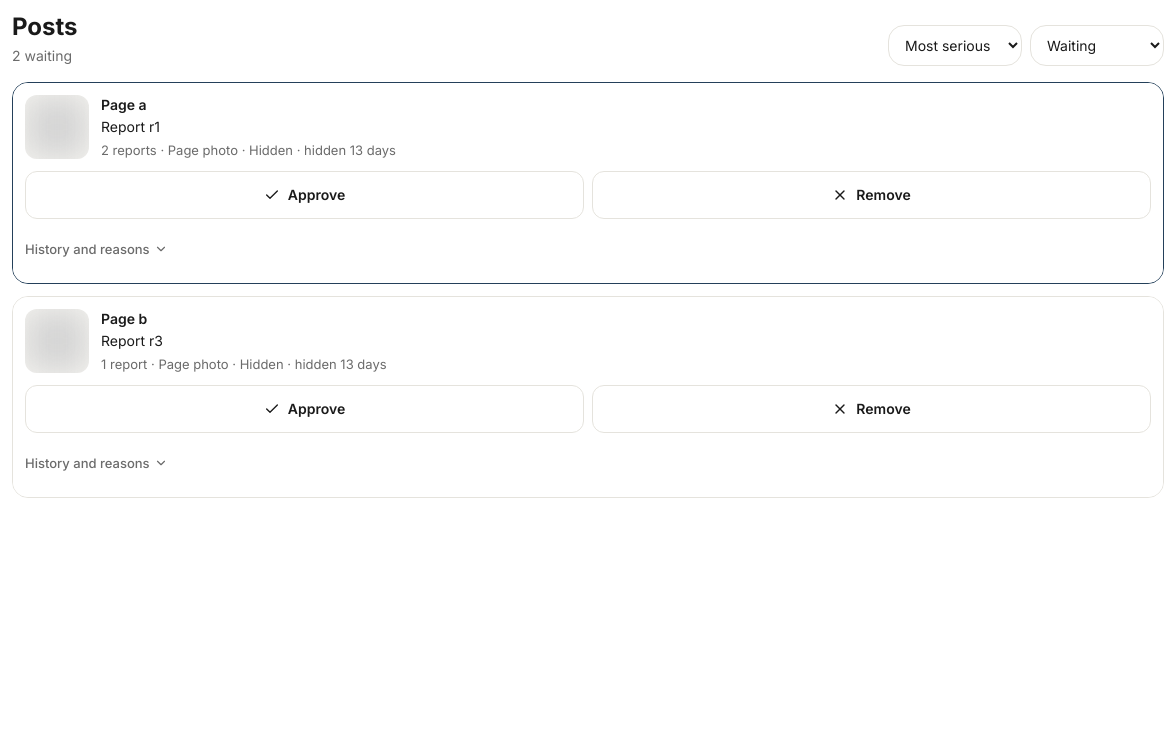
Test: F101 — one tap, then a five-second Undo › Undo brings the row back and writes nothing
Click the button with test id "review-remove".
click(872, 195)  # box [592, 171, 1151, 219]
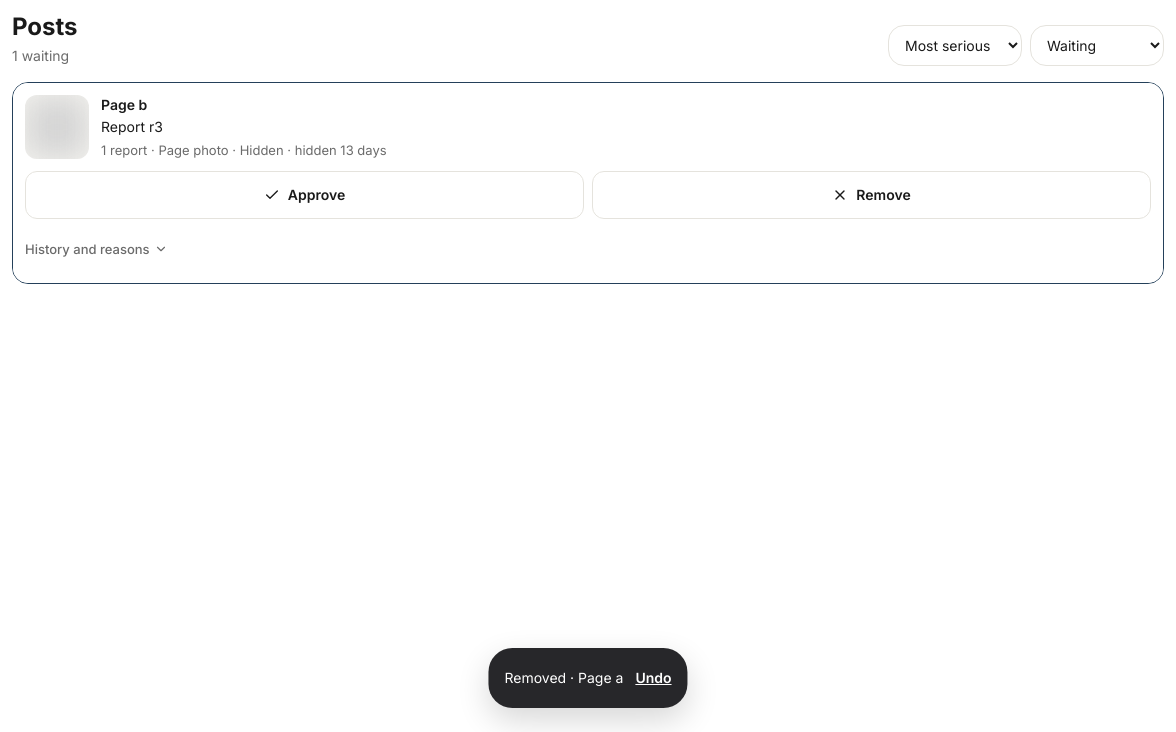
Click the button "Undo".
click(653, 678)  # box [635, 656, 672, 700]
Wait 6000 ms
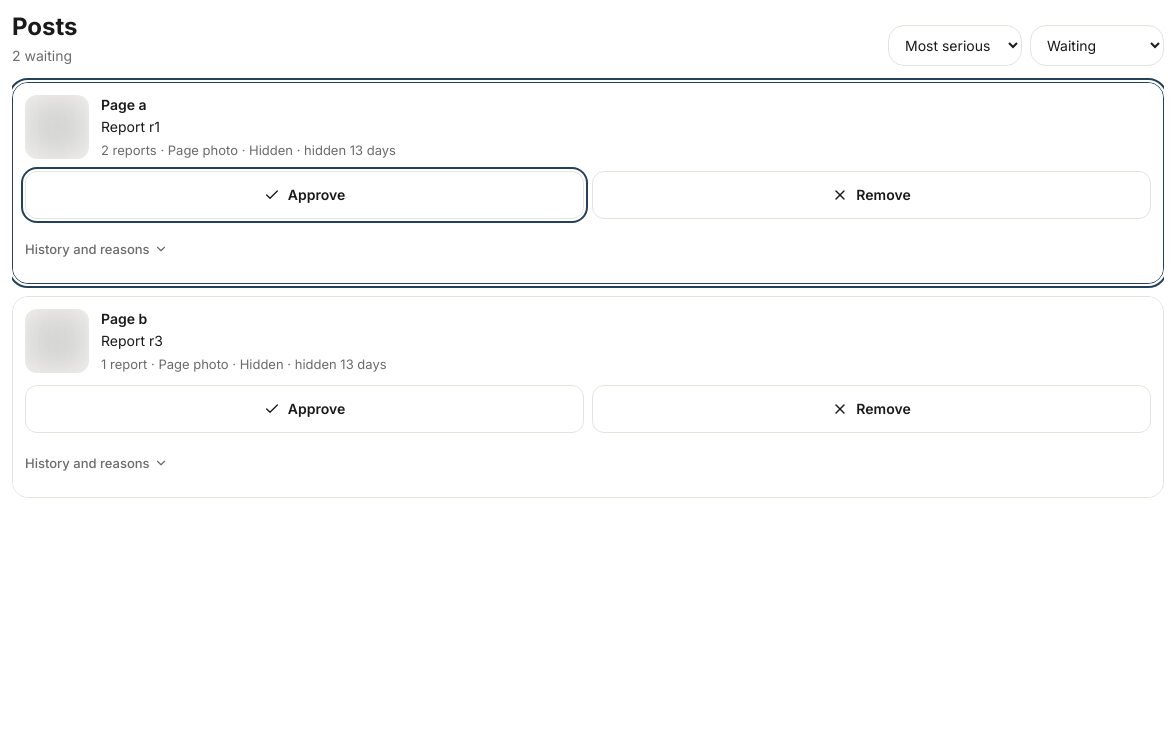
Expected: the number of list items with test id "review-row" is 2, [12, 82, 1164, 284]; [12, 296, 1164, 498]
